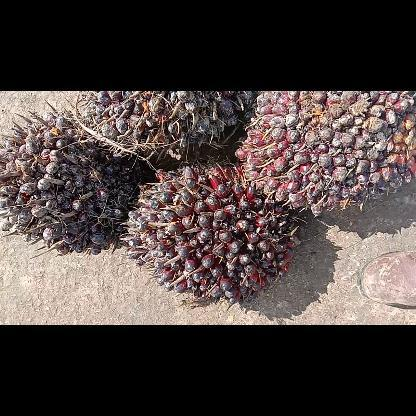Kurang masak: (121, 164, 304, 304), (230, 90, 414, 218), (1, 102, 144, 254), (78, 92, 260, 164)
